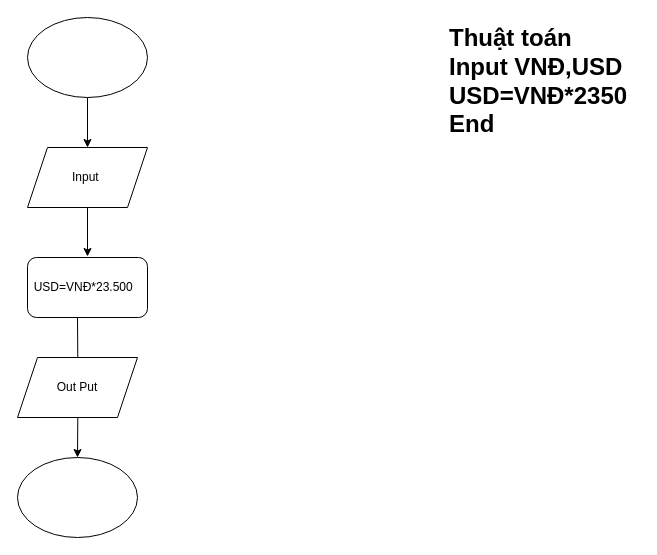
This 657x555 diagram has some shape labels left out. Here are the shapes that lost their labels. From the top down, the box of each, then its label:
(26, 16, 148, 98): Begin
(16, 456, 138, 538): End
